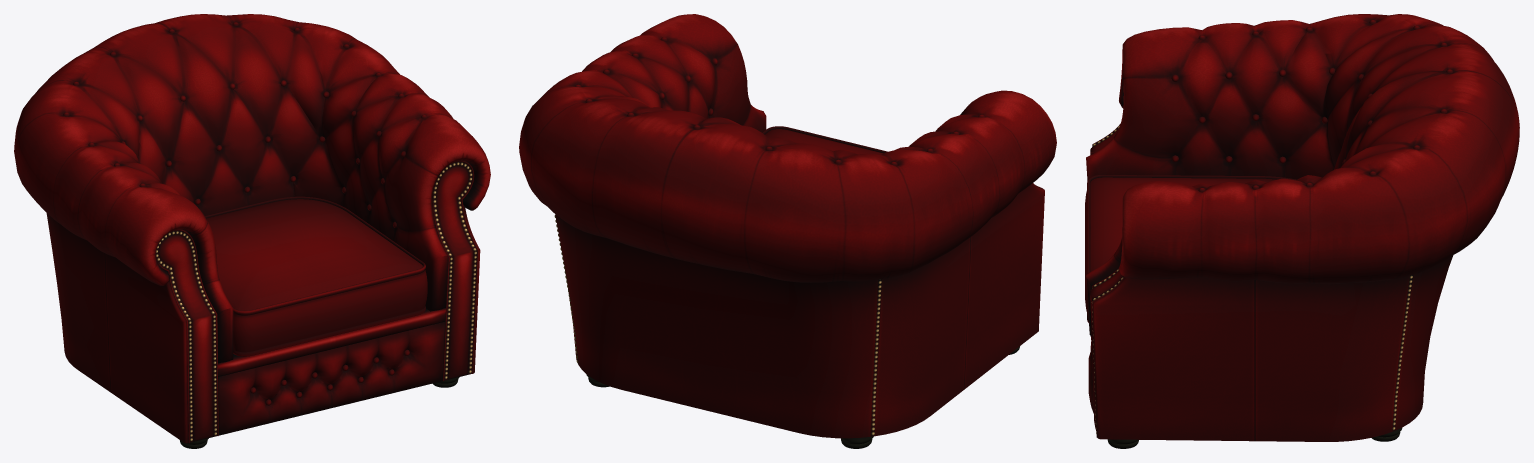
Rendered from COUCH1.fbx.
3 views of the same model, side by side, from view 1: azimuth 30°, elevation 25°; view 2: azimuth 150°, elevation 25°; view 3: azimuth 270°, elevation 25° (orthographic). The views are drawn at different scales.
Parts seen in each view (by area): view 1: 戝; view 2: 戝; view 3: 戝.
Part boxes in pixels (x1,y1,x2,y2): 戝: (14,14,490,448); 戝: (519,14,1056,448); 戝: (1085,14,1519,448).
Size of the model in its own units: 259 by 187 by 240.
